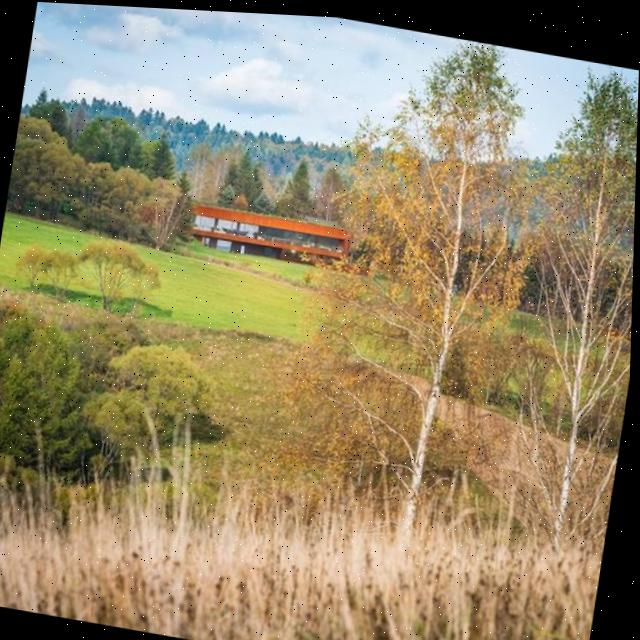building: (178, 193, 380, 284)
